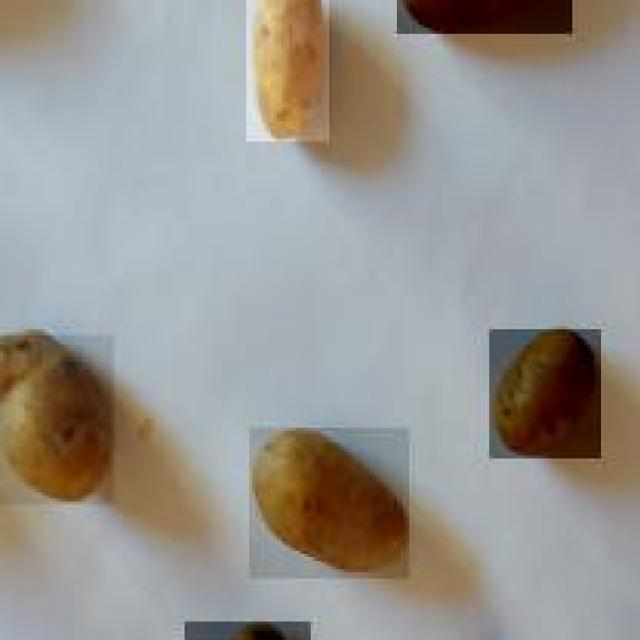potato: (254, 424, 417, 578), (0, 329, 117, 505), (490, 326, 604, 459), (246, 0, 332, 142), (397, 0, 575, 34)
